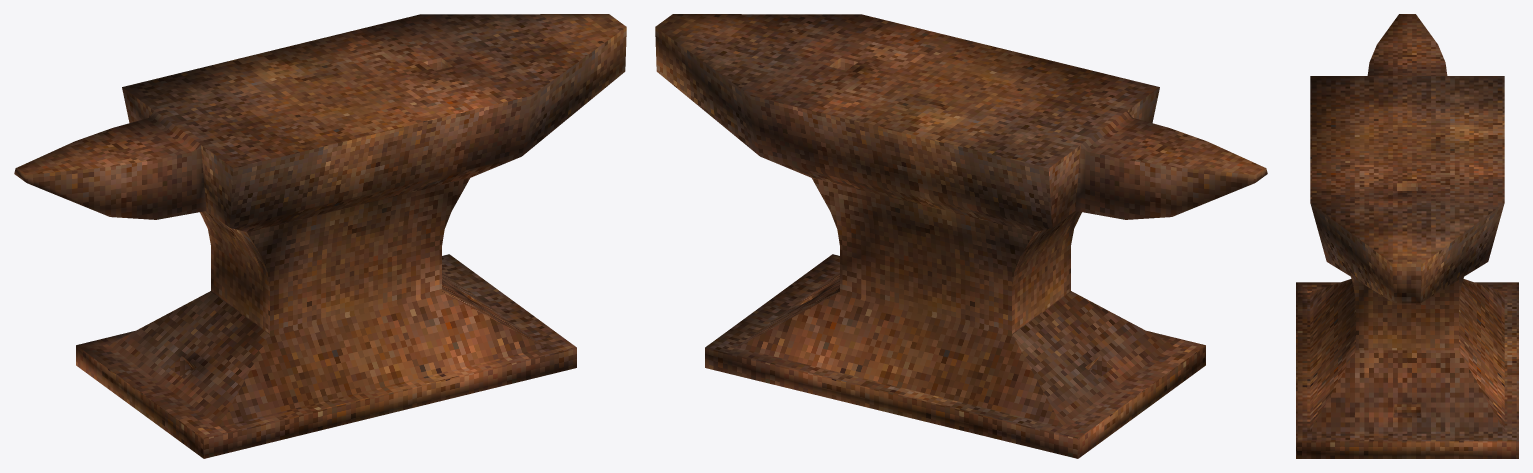
Rendered from GD 3D Anvil Rusted.fbx.
The picture shows the model from 3 angles, left to right: view 1: azimuth 30°, elevation 25°; view 2: azimuth 150°, elevation 25°; view 3: azimuth 270°, elevation 25°; orthographic projection. The views are drawn at different scales.
Visible parts, largest first — view 1: Anvil 1 IVG 3D; view 2: Anvil 1 IVG 3D; view 3: Anvil 1 IVG 3D.
Boxes of the visible parts, bbox=[...] form: Anvil 1 IVG 3D: bbox=[14, 14, 626, 458]; Anvil 1 IVG 3D: bbox=[655, 14, 1267, 458]; Anvil 1 IVG 3D: bbox=[1296, 14, 1518, 458].
Size of the model in its own units: 142 by 62.41 by 52.53.
